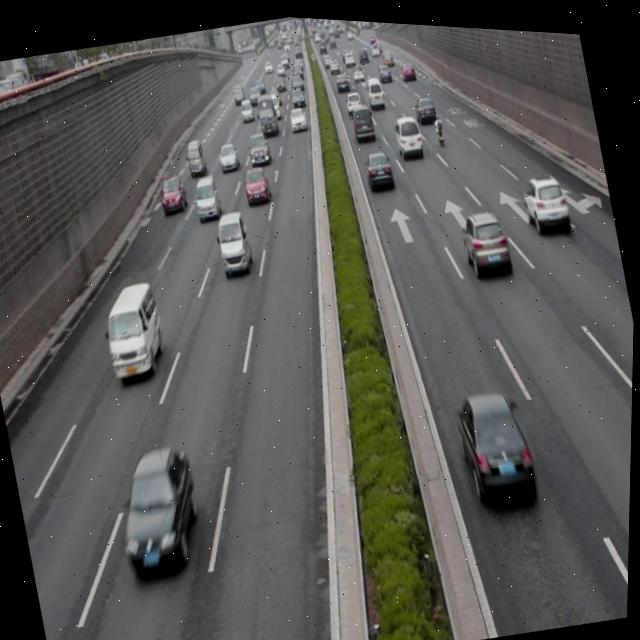car: (112, 439, 211, 573), (452, 375, 541, 502), (458, 202, 513, 274), (517, 162, 572, 233), (361, 142, 395, 185), (241, 159, 272, 205), (158, 171, 190, 211), (245, 127, 273, 163), (215, 136, 242, 171), (412, 87, 438, 120)
truck: (97, 276, 172, 382), (211, 204, 257, 275), (390, 104, 426, 156), (190, 168, 224, 218), (347, 97, 377, 142), (183, 134, 210, 176)
